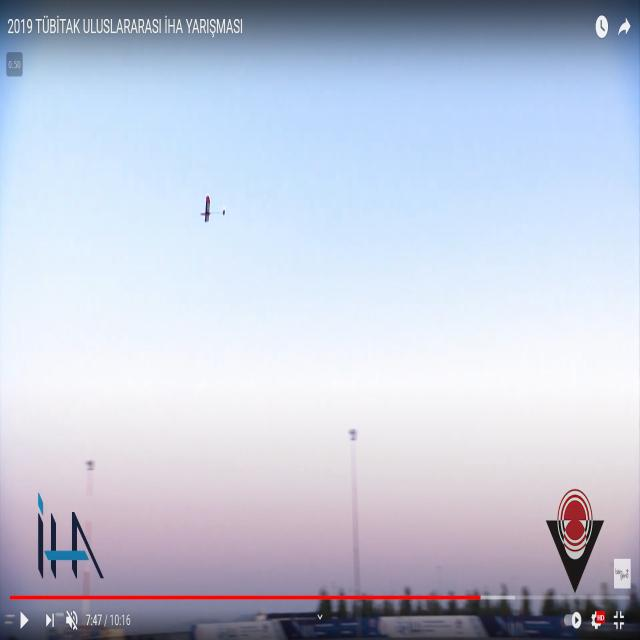iha: (199, 193, 225, 223)
